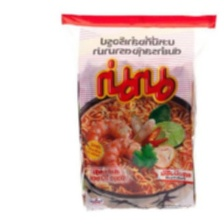snack: (56, 4, 224, 219)
